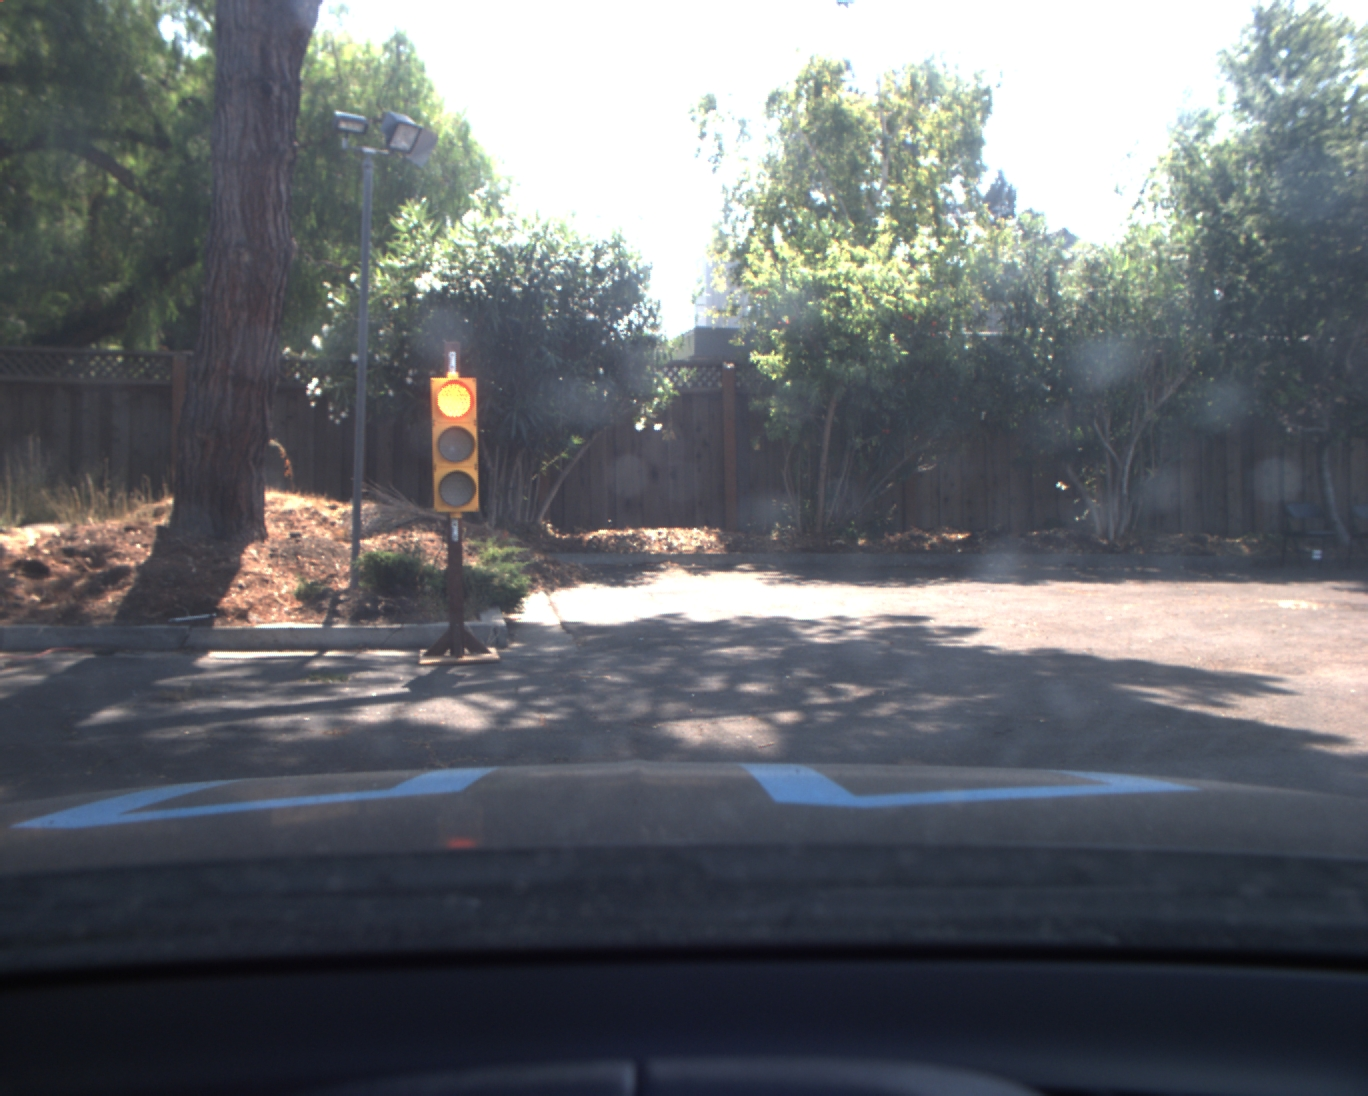red: (429, 379, 483, 517)
